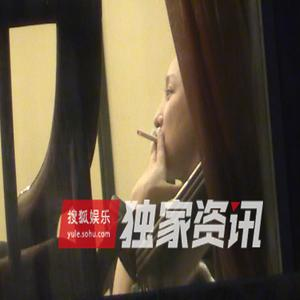cigarette: (137, 129, 157, 144)
